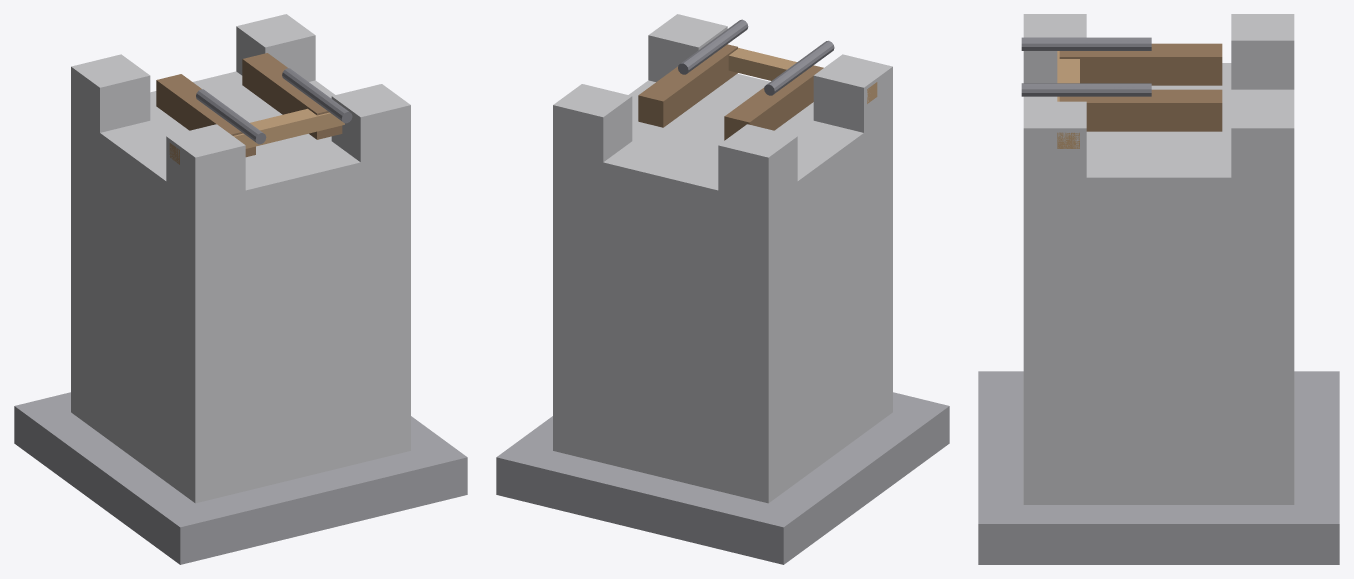
Rendered from arrow-2.glb.
3 views of the same model, side by side, from view 1: azimuth 30°, elevation 25°; view 2: azimuth 150°, elevation 25°; view 3: azimuth 270°, elevation 25° (orthographic). The views are drawn at different scales.
Visible parts, largest first — view 1: arrow-2 tower, arrow-2 base, arrow-2 merlon 2, arrow-2 merlon 4, arrow-2 merlon 3, arrow-2 merlon 1, arrow-2 right stock, arrow-2 left stock, arrow-2 left limbs, arrow-2 right bolt, arrow-2 left bolt, arrow-2 right limbs; view 2: arrow-2 tower, arrow-2 base, arrow-2 merlon 1, arrow-2 merlon 2, arrow-2 merlon 4, arrow-2 right stock, arrow-2 left stock, arrow-2 merlon 3, arrow-2 left limbs, arrow-2 left bolt, arrow-2 right bolt, arrow-2 right limbs; view 3: arrow-2 tower, arrow-2 base, arrow-2 left stock, arrow-2 right stock, arrow-2 merlon 1, arrow-2 merlon 2, arrow-2 merlon 3, arrow-2 merlon 4, arrow-2 right bolt, arrow-2 left bolt, arrow-2 right limbs, arrow-2 left limbs.
Boxes of the visible parts, x1=… form: arrow-2 tower: x1=71, y1=71, x2=410, y2=503; arrow-2 base: x1=14, y1=392, x2=467, y2=564; arrow-2 merlon 2: x1=71, y1=54, x2=150, y2=132; arrow-2 merlon 4: x1=166, y1=124, x2=245, y2=202; arrow-2 merlon 3: x1=331, y1=84, x2=410, y2=162; arrow-2 merlon 1: x1=236, y1=14, x2=315, y2=81; arrow-2 right stock: x1=242, y1=53, x2=342, y2=139; arrow-2 left stock: x1=156, y1=74, x2=255, y2=157; arrow-2 left limbs: x1=169, y1=111, x2=309, y2=164; arrow-2 right bolt: x1=282, y1=68, x2=352, y2=123; arrow-2 left bolt: x1=196, y1=89, x2=266, y2=144; arrow-2 right limbs: x1=263, y1=108, x2=344, y2=143; arrow-2 tower: x1=553, y1=74, x2=892, y2=503; arrow-2 base: x1=496, y1=392, x2=949, y2=564; arrow-2 merlon 1: x1=553, y1=84, x2=632, y2=162; arrow-2 merlon 2: x1=718, y1=124, x2=797, y2=202; arrow-2 merlon 4: x1=813, y1=54, x2=892, y2=132; arrow-2 right stock: x1=638, y1=44, x2=737, y2=127; arrow-2 left stock: x1=724, y1=65, x2=823, y2=140; arrow-2 merlon 3: x1=648, y1=14, x2=727, y2=81; arrow-2 left limbs: x1=738, y1=54, x2=877, y2=103; arrow-2 left bolt: x1=764, y1=40, x2=834, y2=95; arrow-2 right bolt: x1=678, y1=19, x2=748, y2=74; arrow-2 right limbs: x1=728, y1=47, x2=785, y2=79; arrow-2 tower: x1=1023, y1=63, x2=1294, y2=504; arrow-2 base: x1=978, y1=371, x2=1339, y2=564; arrow-2 left stock: x1=1059, y1=43, x2=1222, y2=85; arrow-2 right stock: x1=1059, y1=89, x2=1222, y2=131; arrow-2 merlon 1: x1=1231, y1=101, x2=1294, y2=177; arrow-2 merlon 2: x1=1231, y1=14, x2=1294, y2=89; arrow-2 merlon 3: x1=1023, y1=101, x2=1086, y2=177; arrow-2 merlon 4: x1=1023, y1=14, x2=1086, y2=83; arrow-2 right bolt: x1=1021, y1=83, x2=1151, y2=96; arrow-2 left bolt: x1=1021, y1=37, x2=1151, y2=50; arrow-2 right limbs: x1=1057, y1=64, x2=1079, y2=148; arrow-2 left limbs: x1=1057, y1=51, x2=1079, y2=83.
Size of the model in its own units: 0.8 by 1.04 by 0.8.
